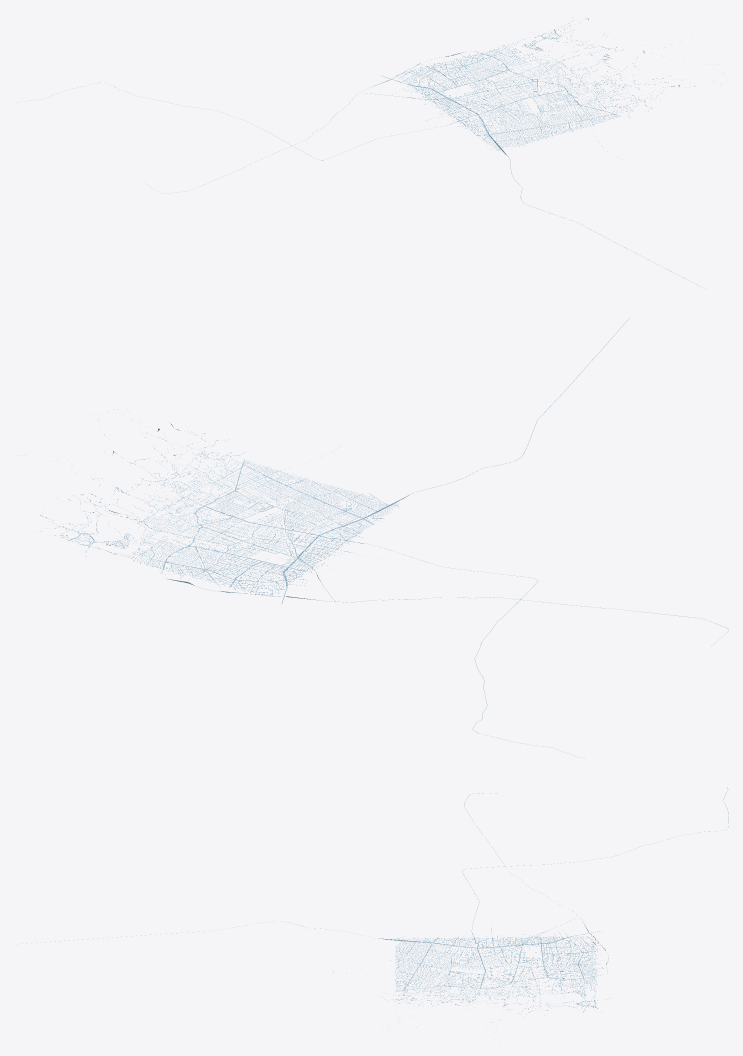
File: roads.glb
The picture shows the model from 3 angles, top to bottom: view 1: azimuth 30°, elevation 25°; view 2: azimuth 150°, elevation 25°; view 3: azimuth 270°, elevation 25°; orthographic projection. The views are drawn at different scales.
Parts seen in each view (by area): view 1: roads; view 2: roads; view 3: roads.
Boxes of the visible parts, x1,y1,x2,y2 form: roads: (19, 17, 723, 284); roads: (21, 318, 728, 758); roads: (17, 787, 728, 1022).
Size of the model in its own units: 24889 by 1100 by 27809.
